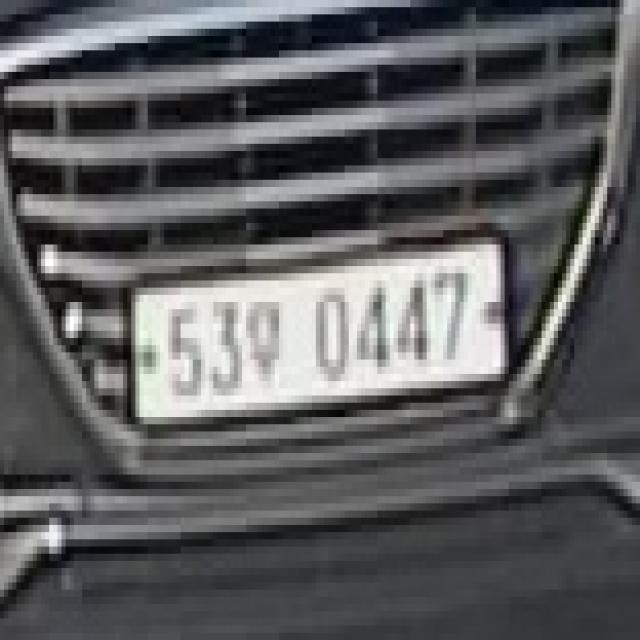0: (304, 281, 348, 388)
3: (201, 288, 242, 402)
4: (398, 259, 431, 388), (357, 274, 390, 388)
5: (160, 295, 213, 403)
7: (431, 266, 472, 360)
license_plate: (119, 223, 513, 446)
mu: (238, 295, 291, 381)
